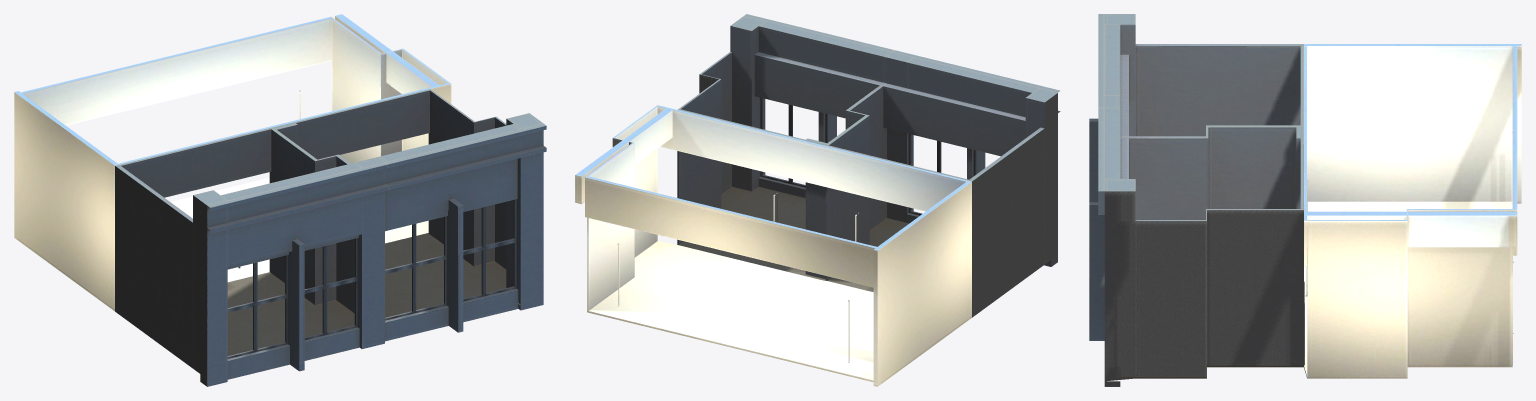
3 renders of one model, left to right at view 1: azimuth 30°, elevation 25°; view 2: azimuth 150°, elevation 25°; view 3: azimuth 270°, elevation 25°, orthographic. The views are drawn at different scales.
Parts seen in each view (by area): view 1: hc_2floor_room021_2, hc_2floor_room022_3, hc_2floor_room020_1; view 2: hc_2floor_room022_3, hc_2floor_room021_2, hc_2floor_room020_1; view 3: hc_2floor_room022_3, hc_2floor_room020_1, hc_2floor_room021_2.
Part boxes in pixels (x1,y1,x2,y2): hc_2floor_room021_2: (115,127,387,386); hc_2floor_room022_3: (14,14,451,311); hc_2floor_room020_1: (272,89,546,341); hc_2floor_room022_3: (575,105,971,386); hc_2floor_room021_2: (825,50,1060,317); hc_2floor_room020_1: (677,14,894,280); hc_2floor_room022_3: (1304,44,1521,378); hc_2floor_room020_1: (1089,107,1304,386); hc_2floor_room021_2: (1089,14,1303,202).
Bounding box in the file's own units: 0.953 × 0.4911 × 0.9825.
Materials: 3 (3 with a texture image).
